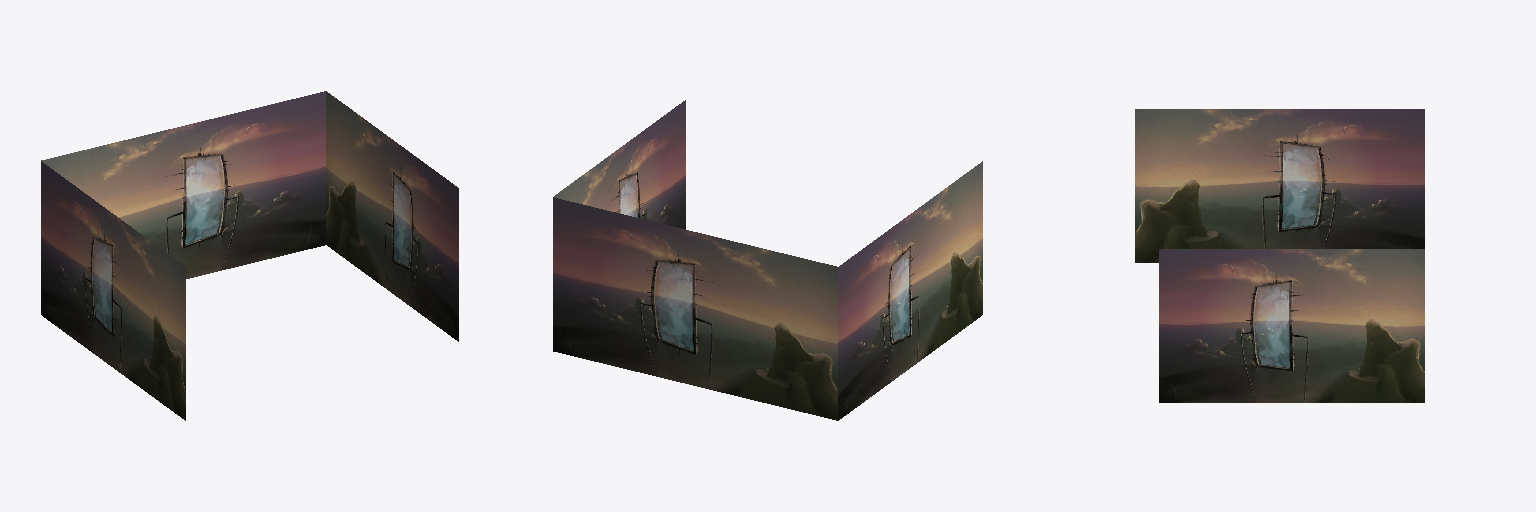
The picture shows the model from 3 angles: view 1: azimuth 30°, elevation 25°; view 2: azimuth 150°, elevation 25°; view 3: azimuth 270°, elevation 25°; orthographic projection.
Parts seen in each view (by area): view 1: webviews_Plane.000; view 2: webviews_Plane.000; view 3: webviews_Plane.000.
Boxes of the visible parts, x1,y1,x2,y2 form: webviews_Plane.000: [41, 91, 458, 420]; webviews_Plane.000: [553, 100, 982, 420]; webviews_Plane.000: [1135, 109, 1424, 402].
Size of the model in its own units: 5.82 by 3 by 5.12.
Materials: 1 (1 with a texture image).